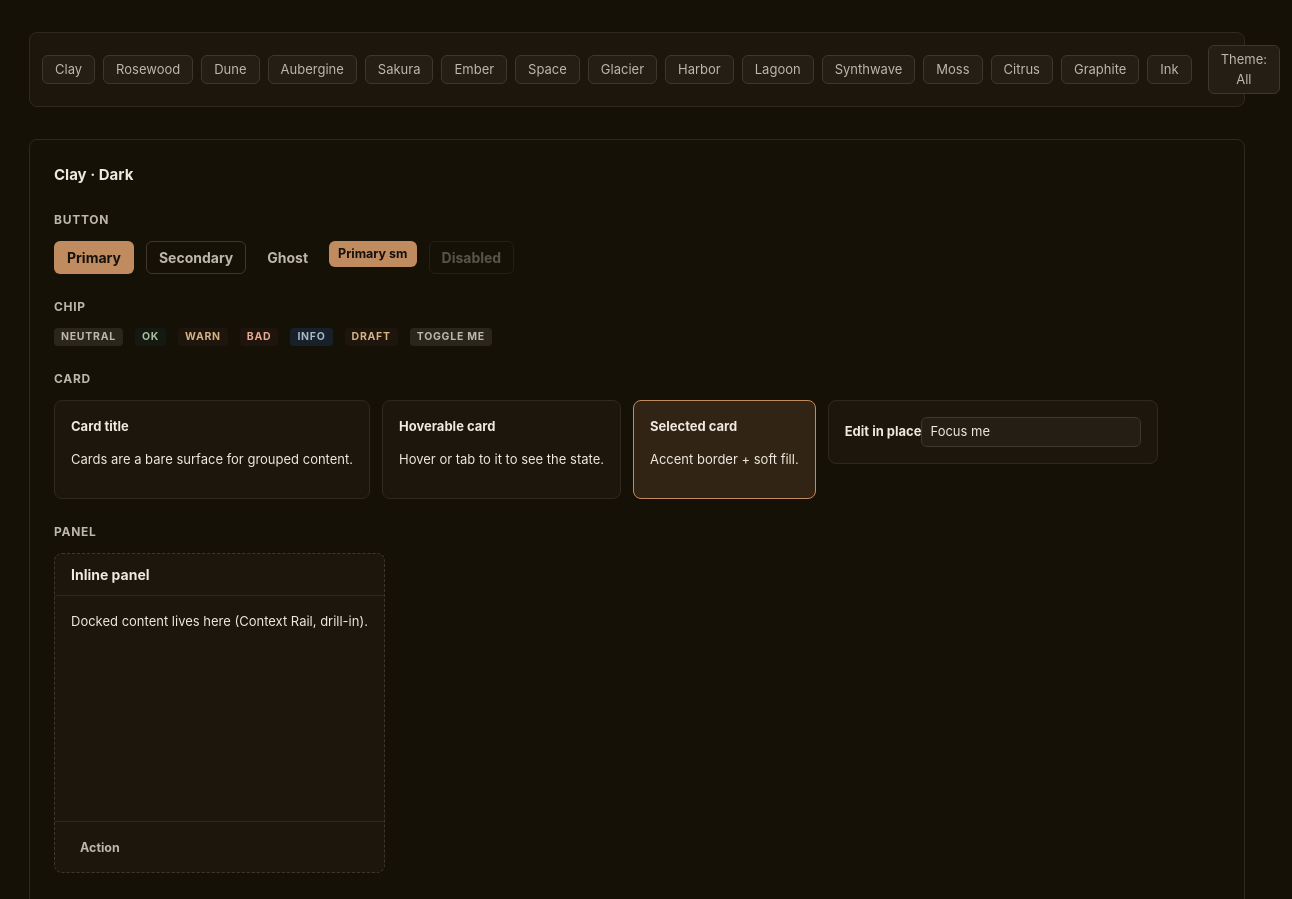
Test: Gallery › clicking the theme toggle cycles and dims non-matching sections
The image size is (1292, 899).
Click the button "Theme: all": [1244, 70] box [1208,45,1280,94]
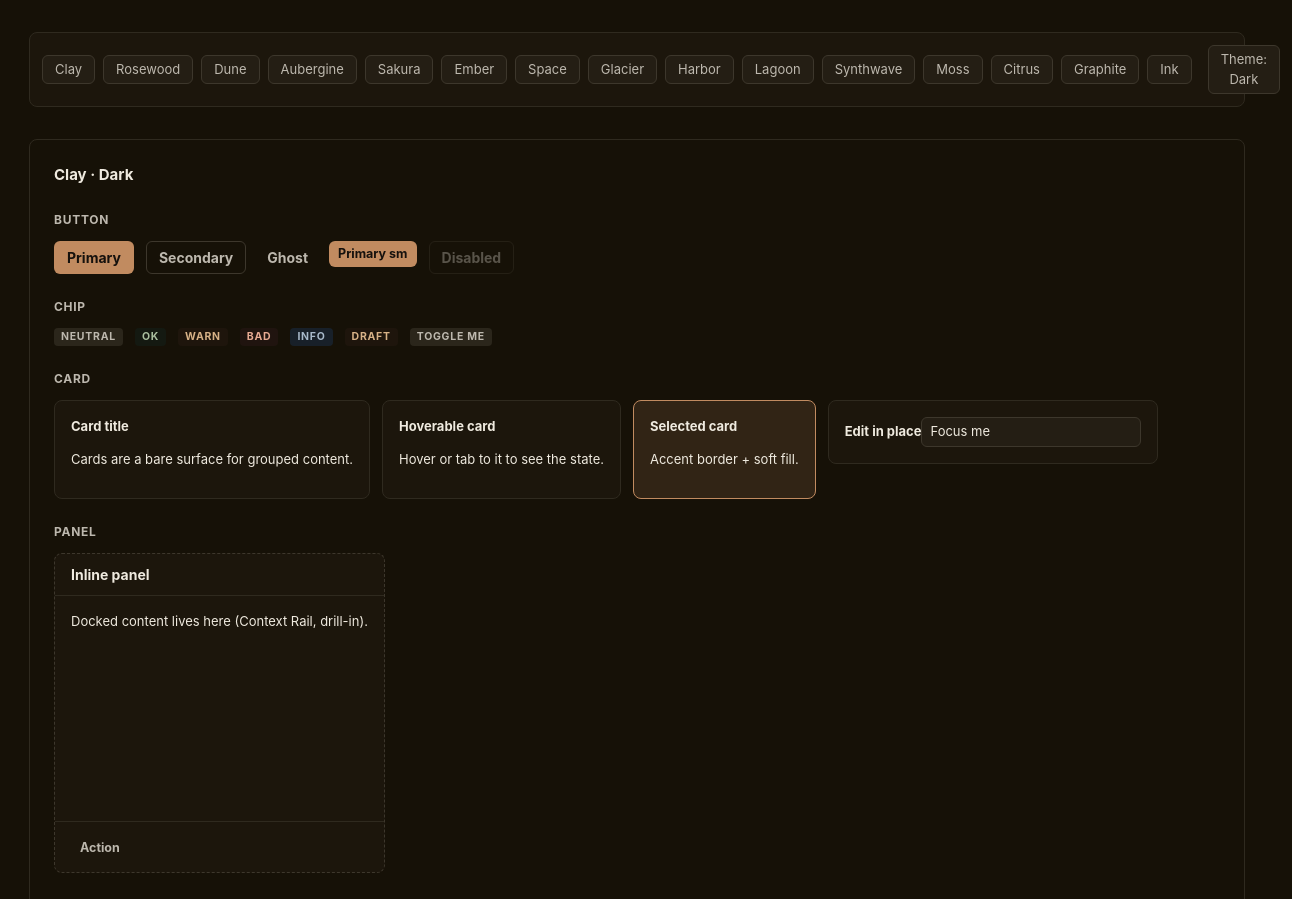
Check: the button "Theme: dark" is shown
Click the button "Theme: dark": [1244, 70] box [1208,45,1280,94]
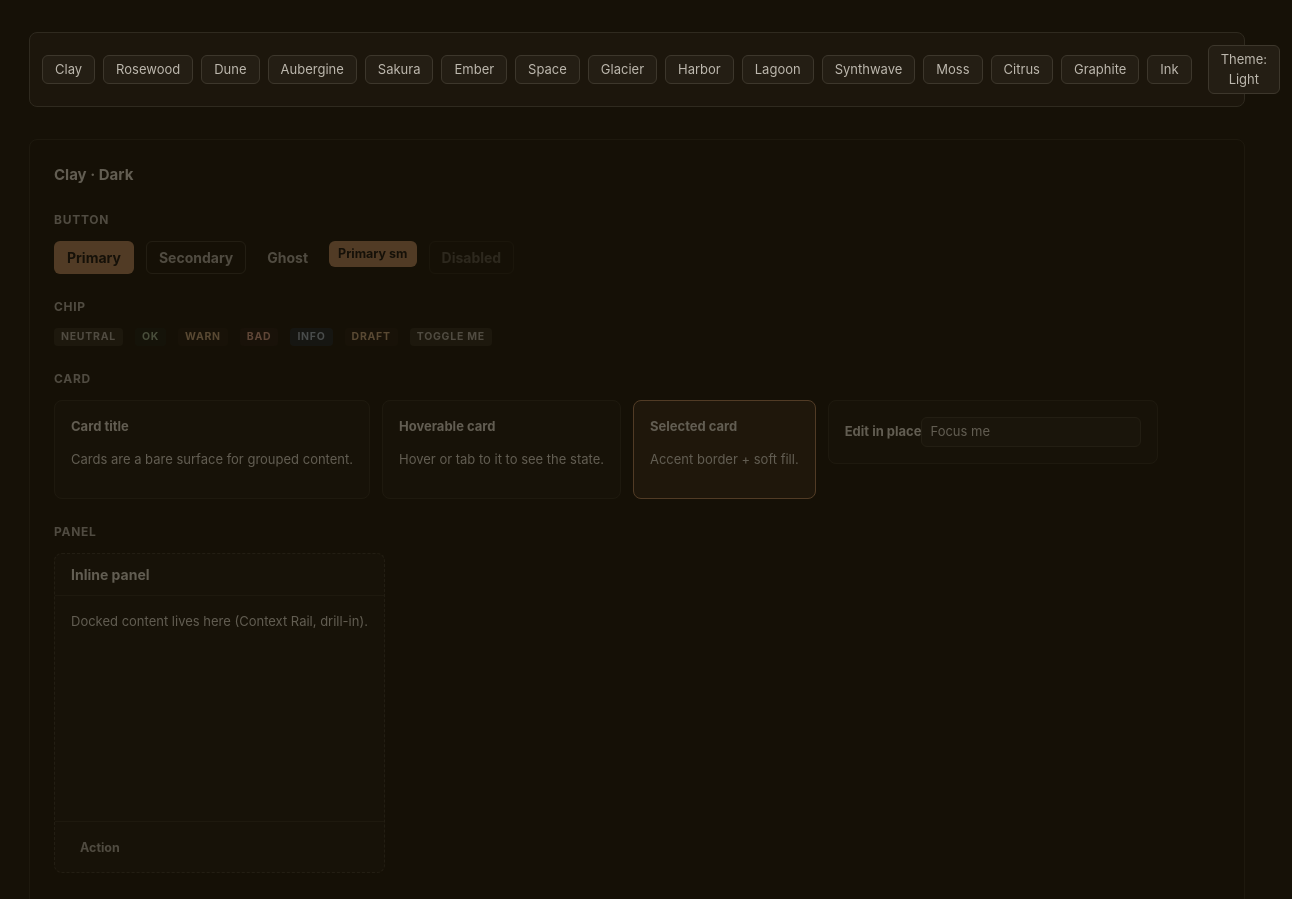
Check: the button "Theme: light" is shown
Click the button "Theme: light": [1244, 70] box [1208,45,1280,94]
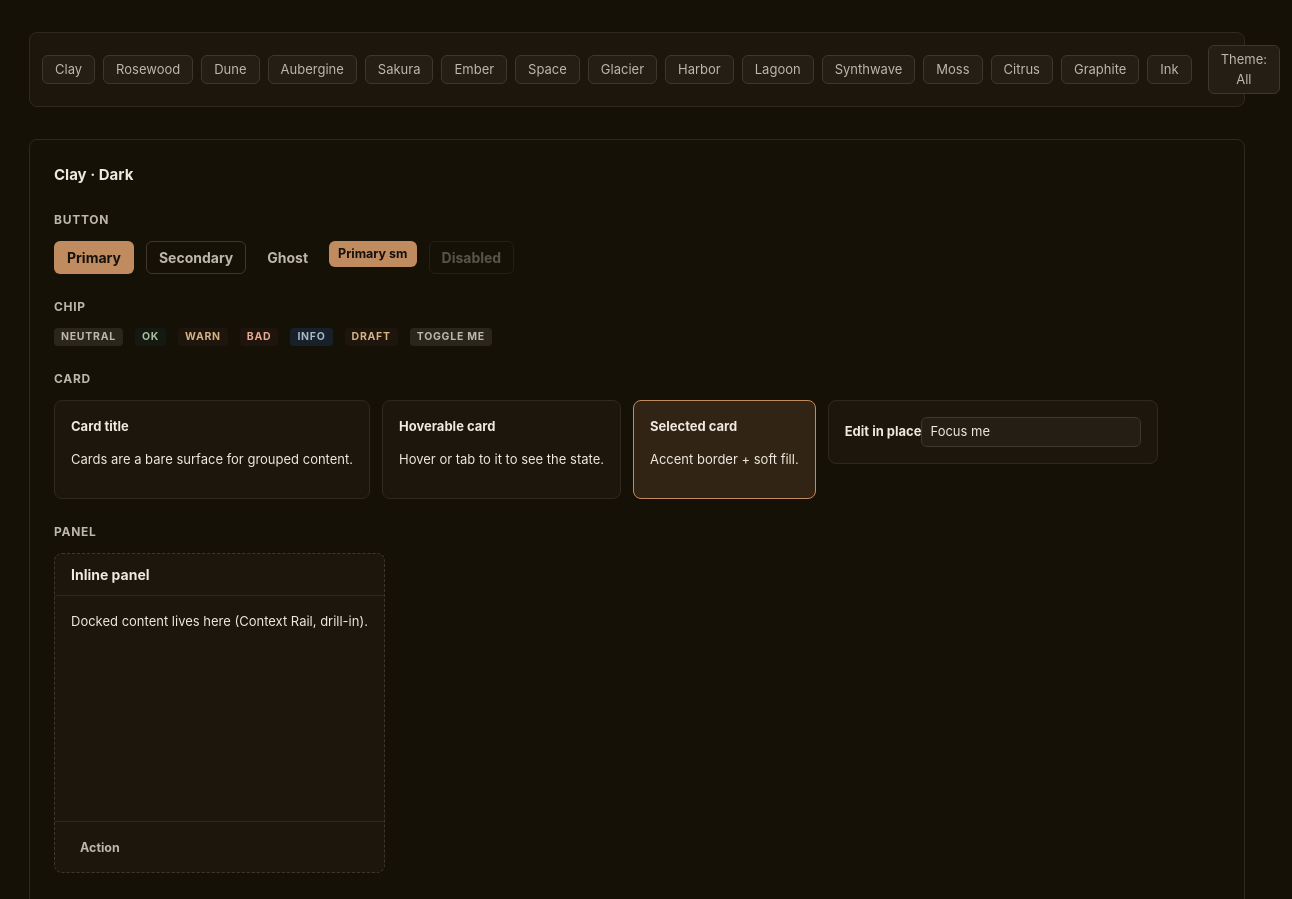
Check: the button "Theme: all" is shown, box [1208,45,1280,94]
